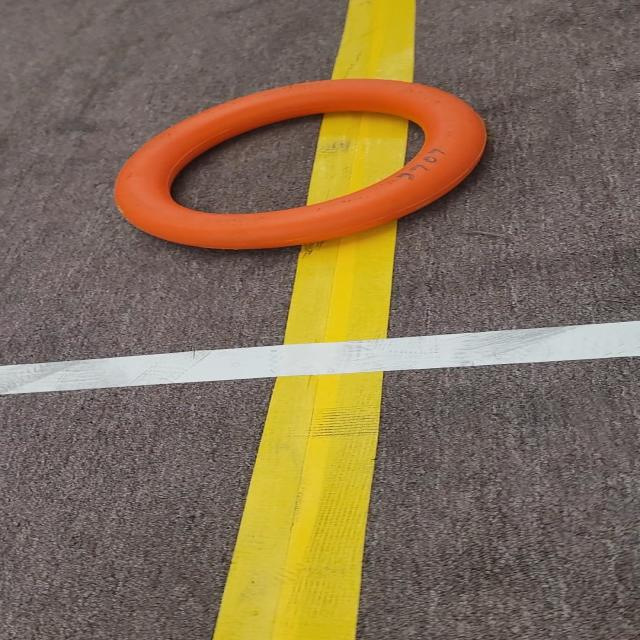note: (89, 72, 537, 271)
